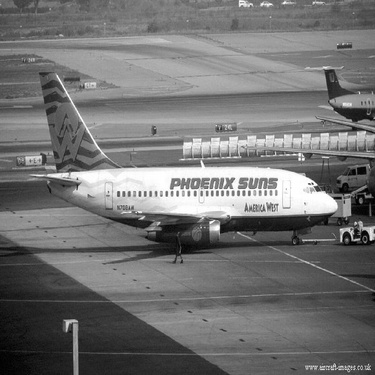airplane: (20, 49, 355, 266), (293, 49, 372, 135)
